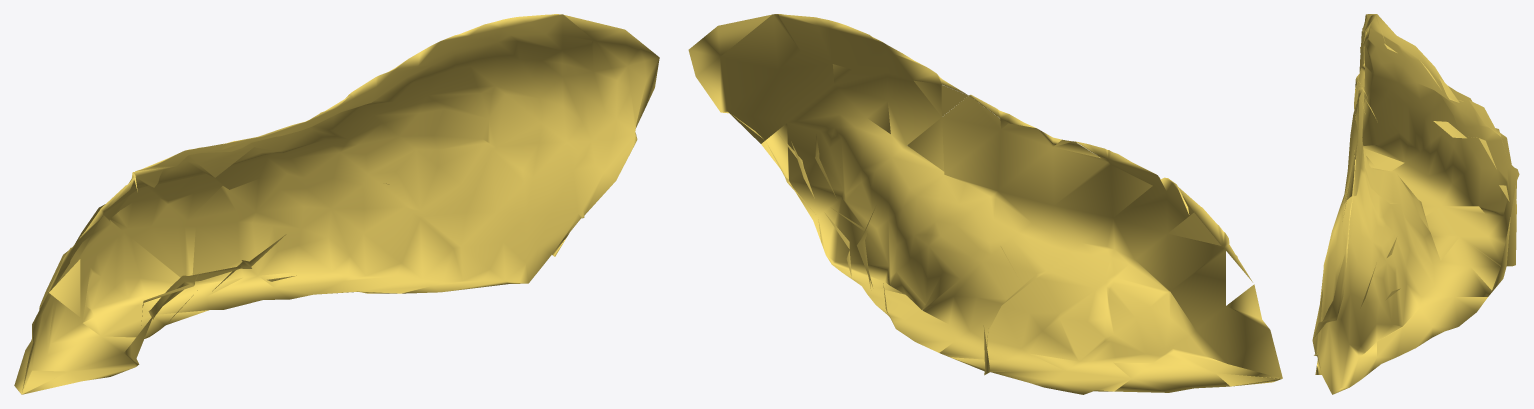
3 renders of one model, left to right at view 1: azimuth 30°, elevation 25°; view 2: azimuth 150°, elevation 25°; view 3: azimuth 270°, elevation 25°, orthographic. The views are drawn at different scales.
Parts seen in each view (by area): view 1: Switch_Switch_osgPicked_gmeGeoEntityGeode_Geometry_0; view 2: Switch_Switch_osgPicked_gmeGeoEntityGeode_Geometry_0; view 3: Switch_Switch_osgPicked_gmeGeoEntityGeode_Geometry_0.
Part boxes in pixels (x1,y1,x2,y2): Switch_Switch_osgPicked_gmeGeoEntityGeode_Geometry_0: (14, 14, 659, 394); Switch_Switch_osgPicked_gmeGeoEntityGeode_Geometry_0: (688, 14, 1282, 394); Switch_Switch_osgPicked_gmeGeoEntityGeode_Geometry_0: (1312, 14, 1519, 394).
Bounding box in the file's own units: 5276 × 2067 × 1451.
